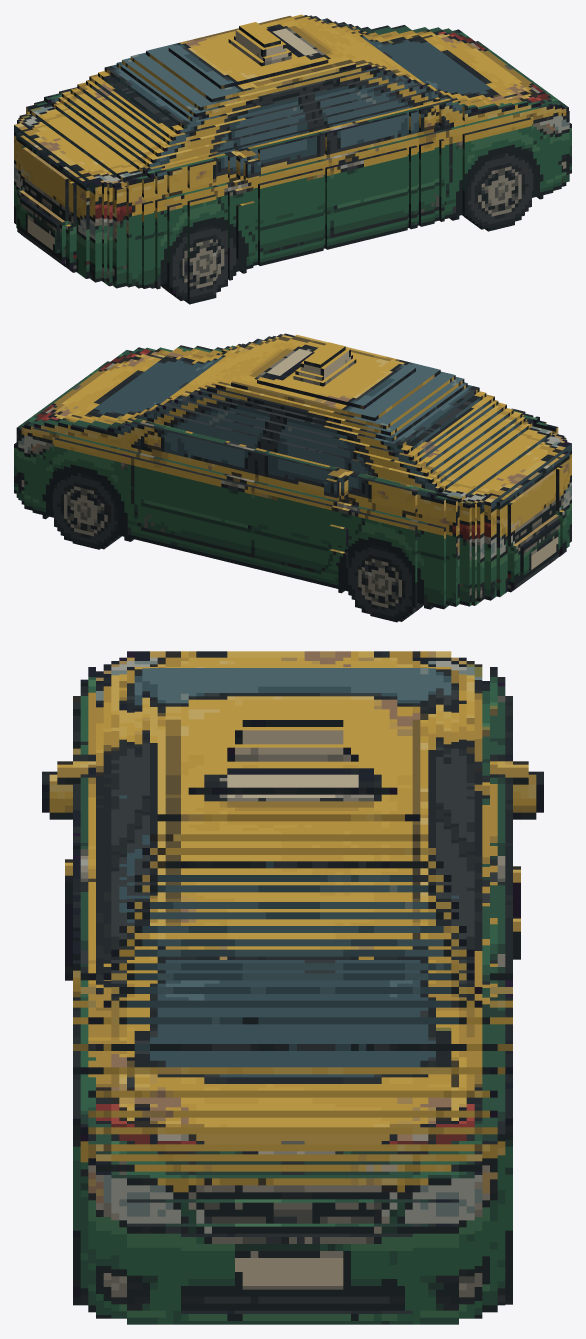
Rendered from city_taxi_green.glb.
3 renders of one model, top to bottom at view 1: azimuth 30°, elevation 25°; view 2: azimuth 150°, elevation 25°; view 3: azimuth 270°, elevation 25°, orthographic. The views are drawn at different scales.
Parts seen in each view (by area): view 1: city_taxi_green; view 2: city_taxi_green; view 3: city_taxi_green.
Part boxes in pixels (box(x1,y1,x2,y2)): city_taxi_green: box(14, 14, 571, 304); city_taxi_green: box(14, 333, 571, 622); city_taxi_green: box(42, 651, 543, 1324).
Bounding box in the file's own units: 4.59 × 1.78 × 2.03.
